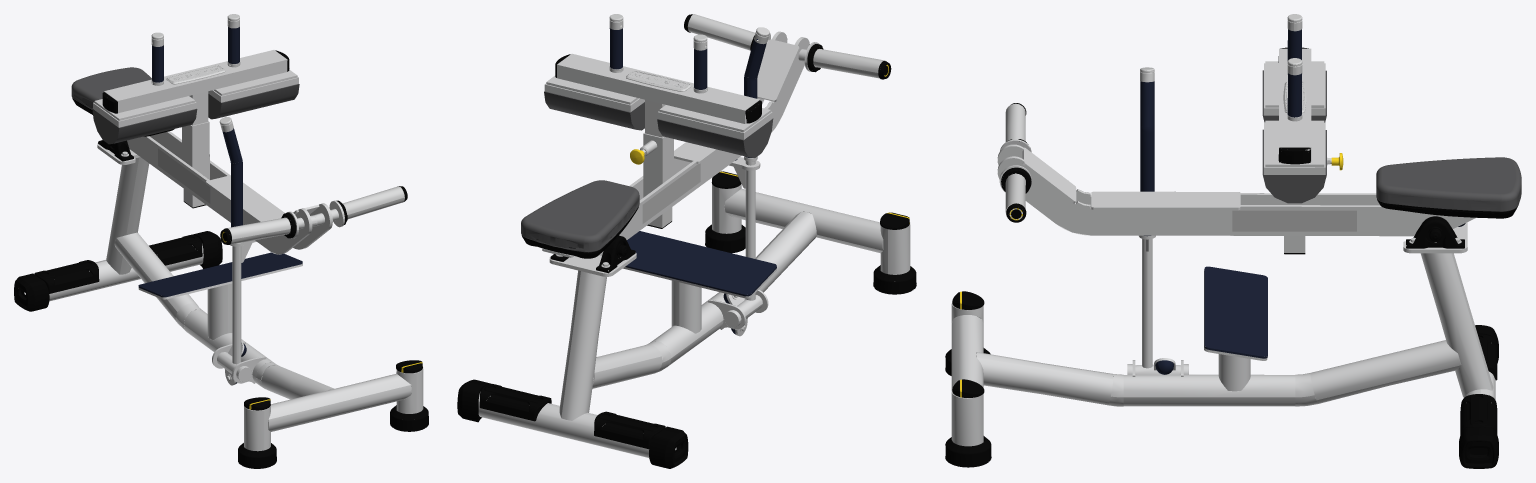
File: calf.glb
3 views of the same model, side by side, from view 1: azimuth 30°, elevation 25°; view 2: azimuth 150°, elevation 25°; view 3: azimuth 270°, elevation 25° (orthographic). The views are drawn at different scales.
Parts seen in each view (by area): view 1: MG_A53_008.001, MG_A53_009.001, MG_A53_004.001, MG_A53_013.001, MG_A53_007.001, Obj_000002_14.001; view 2: MG_A53_008.001, MG_A53_009.001, MG_A53_004.001, MG_A53_013.001, MG_A53_007.001, Obj_000002_14.001; view 3: MG_A53_008.001, MG_A53_009.001, MG_A53_004.001, MG_A53_013.001, MG_A53_007.001, Obj_000002_14.001.
Part boxes in pixels (left/top/right/bottom): MG_A53_008.001: left=24, top=50, right=423, bottom=451; MG_A53_009.001: left=14, top=50, right=428, bottom=468; MG_A53_004.001: left=71, top=67, right=299, bottom=144; MG_A53_013.001: left=138, top=27, right=302, bottom=383; MG_A53_007.001: left=121, top=14, right=404, bottom=381; Obj_000002_14.001: left=158, top=148, right=210, bottom=203; MG_A53_008.001: left=478, top=31, right=910, bottom=457; MG_A53_009.001: left=457, top=14, right=916, bottom=468; MG_A53_004.001: left=521, top=91, right=773, bottom=252; MG_A53_013.001: left=609, top=28, right=776, bottom=334; MG_A53_007.001: left=556, top=14, right=886, bottom=332; Obj_000002_14.001: left=642, top=163, right=700, bottom=223; MG_A53_008.001: left=951, top=48, right=1495, bottom=446; MG_A53_009.001: left=945, top=47, right=1518, bottom=468; MG_A53_004.001: left=1262, top=70, right=1521, bottom=211; MG_A53_013.001: left=1140, top=29, right=1465, bottom=374; MG_A53_007.001: left=1005, top=14, right=1461, bottom=374; Obj_000002_14.001: left=1232, top=210, right=1356, bottom=231.
Size of the model in its own units: 0.6427 by 0.9837 by 1.37.
